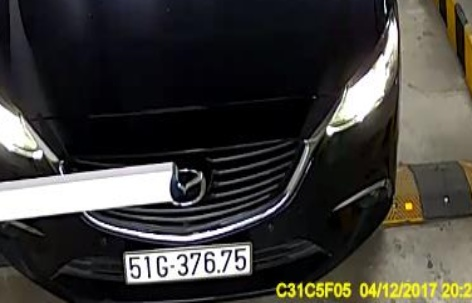plate: (122, 242, 256, 284)
